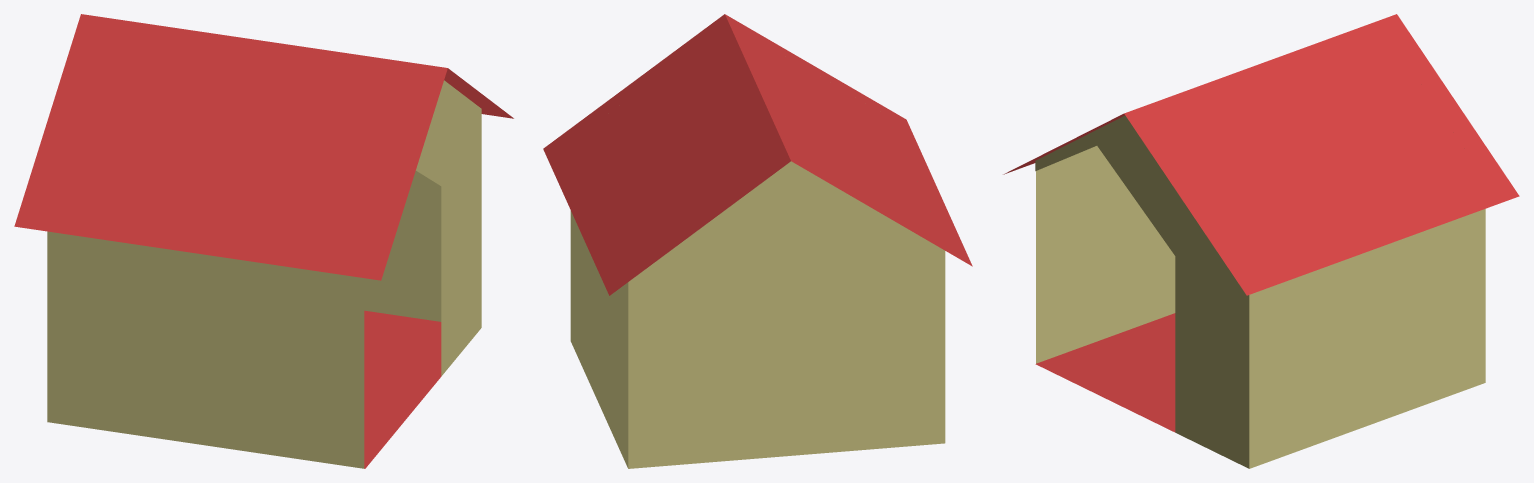
3 views of the same model, side by side, from view 1: azimuth 30°, elevation 25°; view 2: azimuth 150°, elevation 25°; view 3: azimuth 270°, elevation 25° (orthographic). The views are drawn at different scales.
Size of the model in its own units: 16.22 by 16.17 by 10.66.
